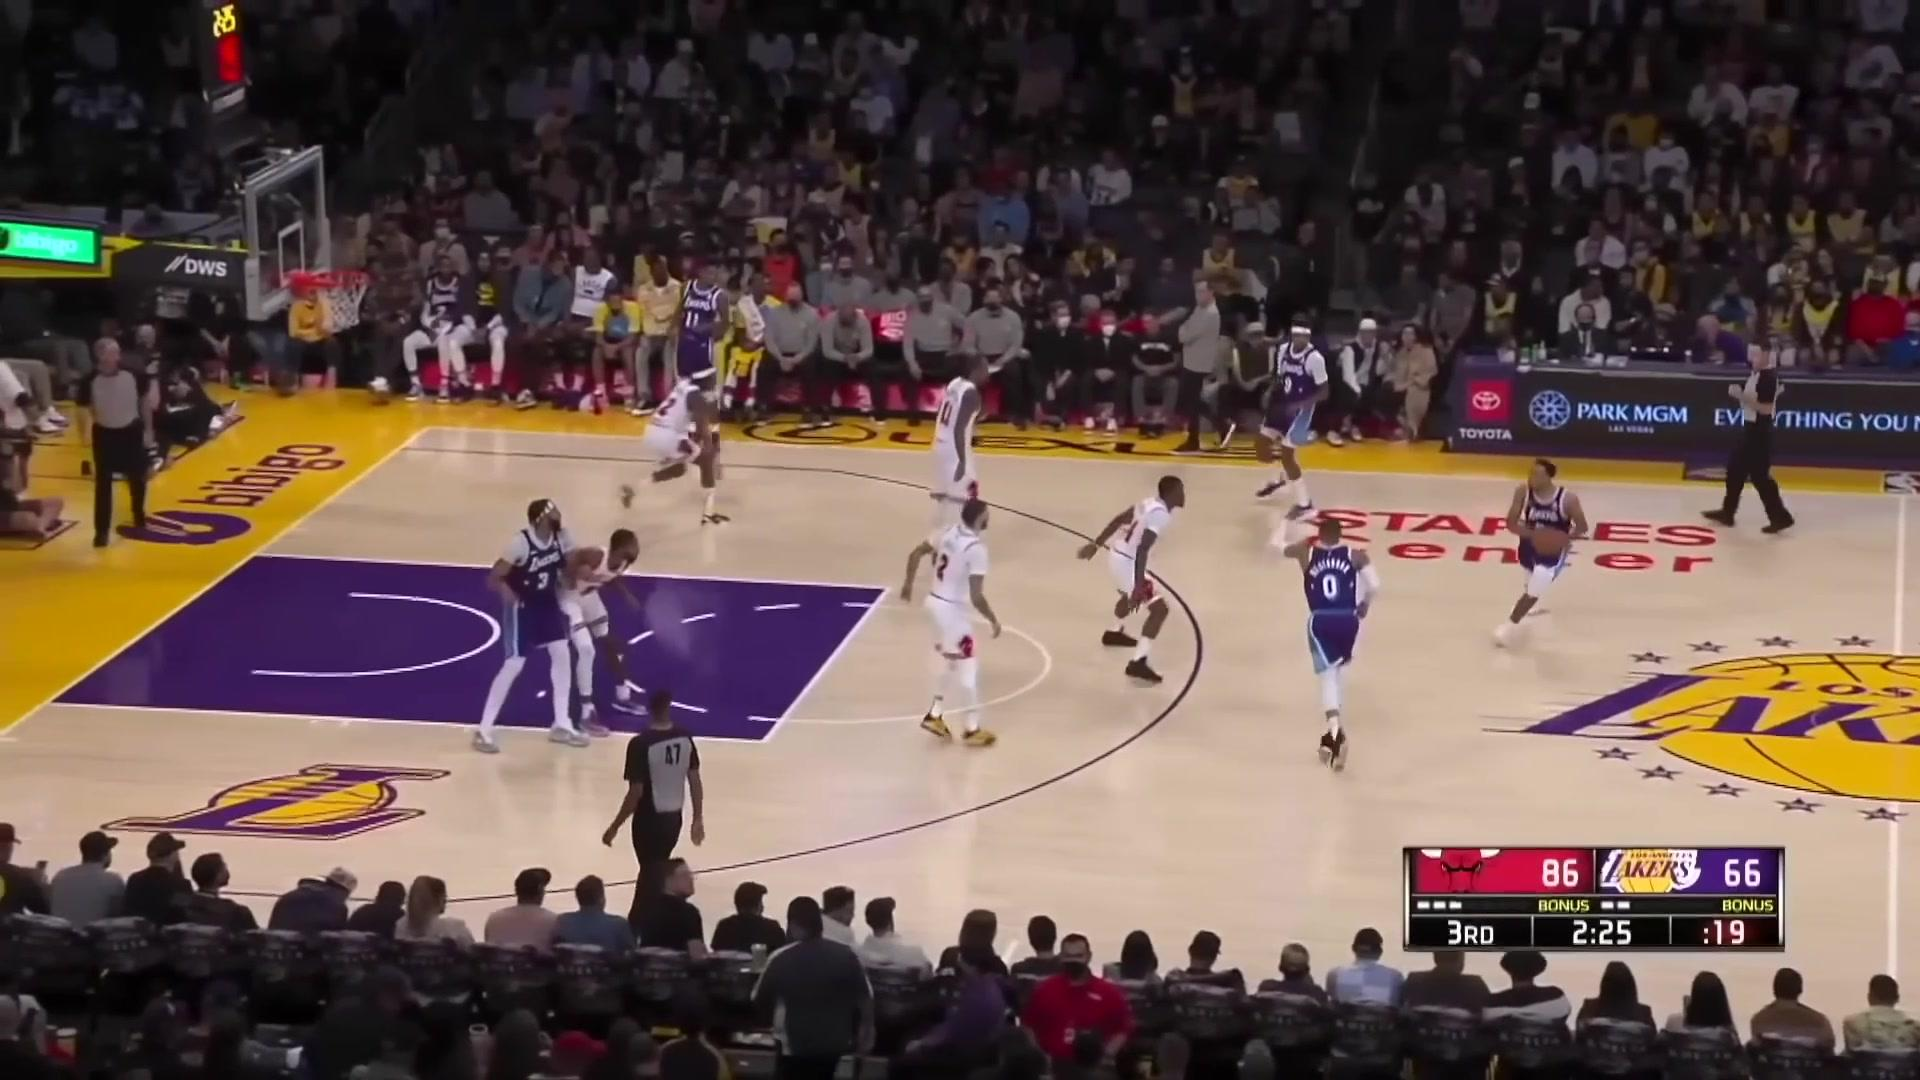foul: (463, 479, 641, 745)
